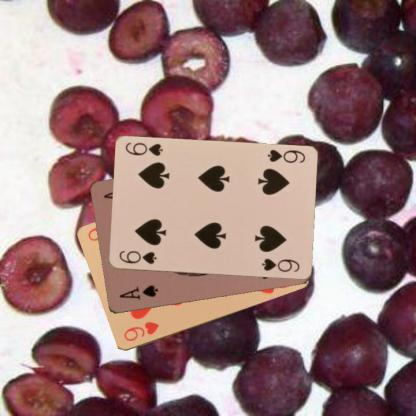6s: (265, 146, 306, 164), (116, 248, 158, 265)
9h: (121, 320, 160, 343)
As: (116, 283, 159, 301)
